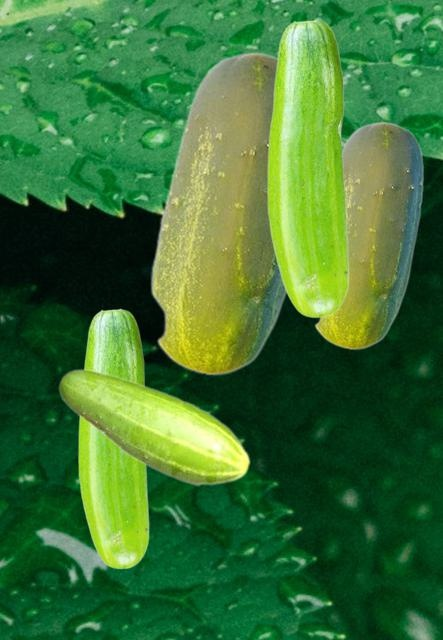cucumber: (149, 51, 287, 375), (314, 121, 422, 349), (267, 19, 348, 317), (58, 368, 250, 486), (78, 308, 148, 568)
